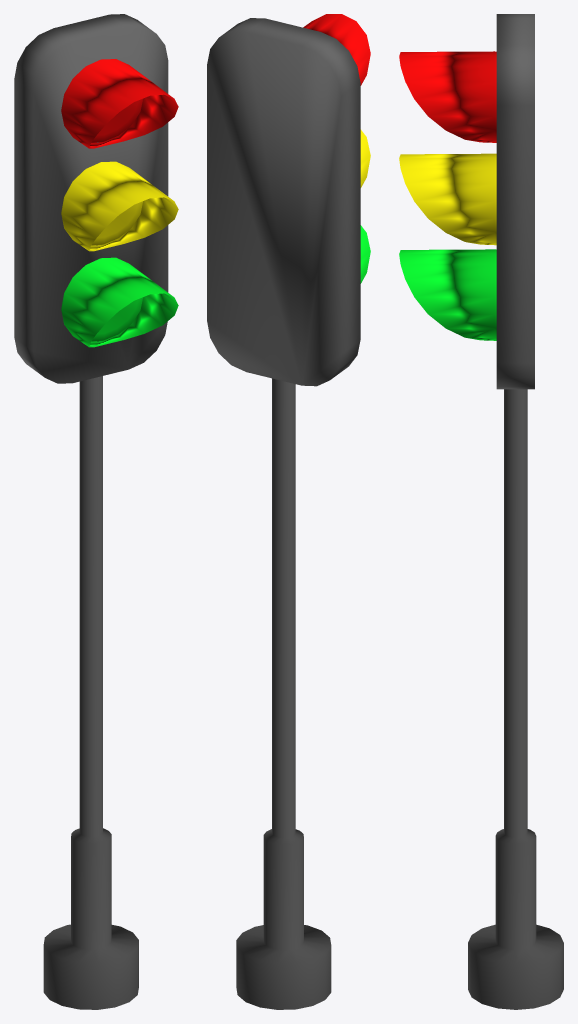
Rendered from Trafik.fbx.
The picture shows the model from 3 angles, left to right: view 1: azimuth 30°, elevation 25°; view 2: azimuth 150°, elevation 25°; view 3: azimuth 270°, elevation 25°; orthographic projection.
Visible parts, largest first — view 1: Cube, Cylinder, Cylinder.005, Cylinder.003, Cylinder.001; view 2: Cube, Cylinder, Cylinder.001, Cylinder.003, Cylinder.005; view 3: Cylinder, Cube, Cylinder.005, Cylinder.001, Cylinder.003.
Part boxes in pixels (x1,y1,x2,y2): Cube: (14,14,168,383); Cylinder: (43,376,138,1009); Cylinder.005: (61,257,178,347); Cylinder.003: (61,161,178,251); Cylinder.001: (61,59,178,148); Cube: (207,18,360,386); Cylinder: (236,378,331,1009); Cylinder.001: (303,14,370,85); Cylinder.003: (360,129,370,187); Cylinder.005: (360,225,370,283); Cylinder: (468,389,563,1009); Cube: (496,14,534,389); Cylinder.005: (399,249,496,340); Cylinder.001: (399,51,496,142); Cylinder.003: (399,153,496,245).
Size of the model in its own units: 204 by 1390 by 217.
